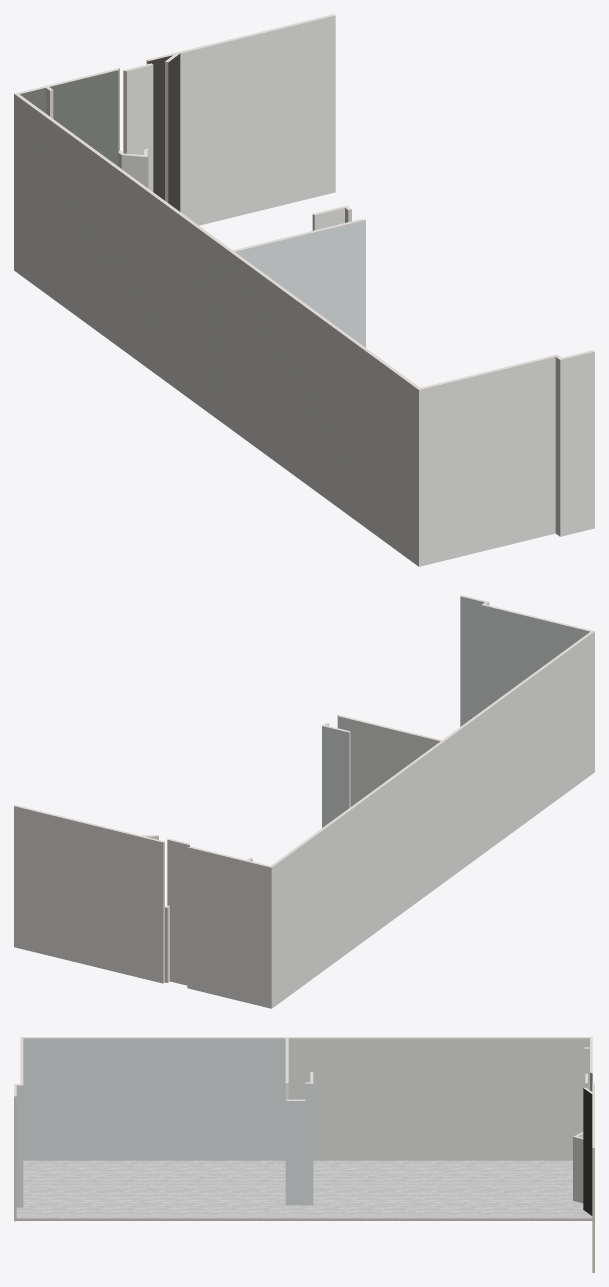
3 views of the same model, one above another, from view 1: azimuth 30°, elevation 25°; view 2: azimuth 150°, elevation 25°; view 3: azimuth 270°, elevation 25° (orthographic). The views are drawn at different scales.
Parts seen in each view (by area): view 1: wall_16 (×2), wall_12 (×2), wall_0 (×2), wall_1, wall_13, wall_4, wall_14, wall_10, wall_9, wall_6; view 2: wall_16 (×2), wall_12, wall_0, wall_14, wall_1, wall_13, wall_17, wall_10, wall_4, wall_3; view 3: wall_16 (×2), floor_Other_0 (×2), wall_12 (×2), wall_2, wall_9, wall_6, wall_8, wall_4, wall_0.
Boxes of the visible parts, x1,y1,x2,y2 form: wall_16 (×2): (14, 93, 232, 428); wall_12 (×2): (230, 251, 419, 566); wall_0 (×2): (148, 15, 335, 225); wall_1: (419, 357, 555, 566); wall_13: (235, 220, 365, 347); wall_4: (560, 351, 594, 536); wall_14: (50, 70, 118, 166); wall_10: (127, 65, 153, 191); wall_9: (168, 54, 179, 211); wall_6: (555, 357, 560, 536); wall_16 (×2): (271, 740, 444, 1008); wall_12: (444, 631, 594, 882); wall_0: (14, 806, 163, 983); wall_14: (187, 847, 246, 1002); wall_1: (481, 605, 589, 711); wall_13: (338, 716, 440, 806); wall_17: (246, 862, 271, 1008); wall_10: (167, 839, 189, 985); wall_4: (460, 596, 484, 726); wall_3: (322, 726, 349, 827); wall_16 (×2): (287, 1037, 592, 1160); floor_Other_0 (×2): (16, 1160, 592, 1220); wall_12 (×2): (21, 1037, 286, 1160); wall_2: (285, 1083, 313, 1205); wall_9: (583, 1088, 592, 1215); wall_6: (16, 1085, 23, 1207); wall_8: (573, 1137, 583, 1203); wall_4: (14, 1096, 16, 1221); wall_0: (592, 1148, 594, 1272).
Bounding box in the file's own units: 9.27 × 4.88 × 20.55.
43 materials, 4 textured.
